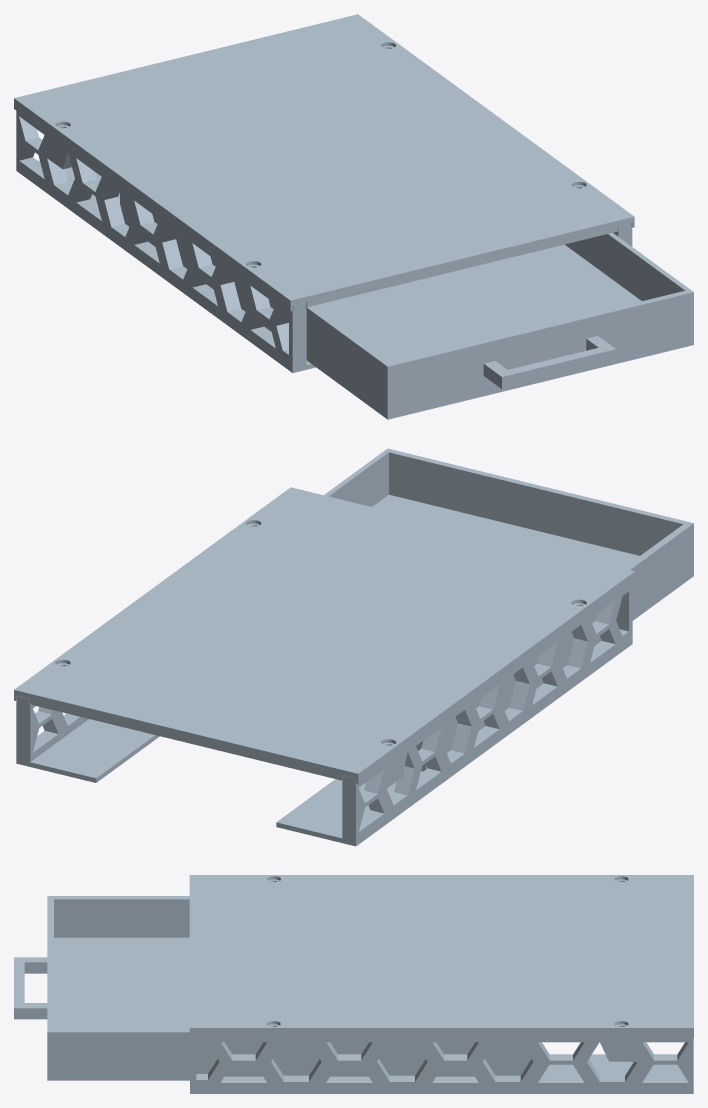
Rendered from under-desk-drawer-9d5791f8.glb.
3 views of the same model, one above another, from view 1: azimuth 30°, elevation 25°; view 2: azimuth 150°, elevation 25°; view 3: azimuth 270°, elevation 25° (orthographic). The views are drawn at different scales.
Parts seen in each view (by area): view 1: Top, Drawer, Rail2; view 2: Top, Drawer, Rail2, Rail1; view 3: Top, Drawer, Rail1.
Part boxes in pixels (x1,y1,x2,y2): Top: (14,14,634,311); Drawer: (120,190,693,419); Rail2: (16,111,315,372); Top: (14,487,634,784); Drawer: (324,448,693,771); Rail2: (276,584,632,846); Rail1: (16,696,159,782); Top: (189,875,693,1037); Drawer: (14,896,531,1080); Rail1: (190,1038,693,1093).
Bounding box in the file's own units: 1.33 × 0.271 × 2.5.
